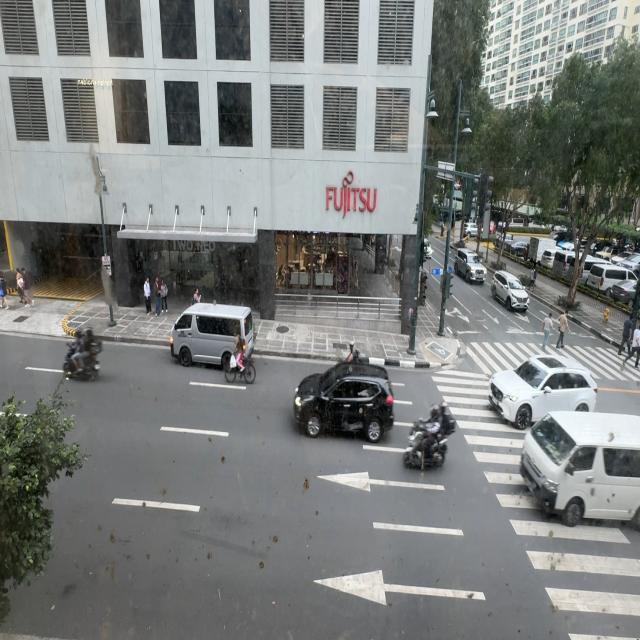crossing: (618, 312, 634, 358), (556, 310, 570, 349), (541, 311, 553, 350)
pedestrain: (232, 333, 244, 373), (143, 276, 152, 316), (16, 269, 26, 305), (160, 279, 168, 313), (155, 280, 162, 317), (529, 265, 537, 290), (192, 288, 200, 305)
waiting: (155, 280, 162, 317)
